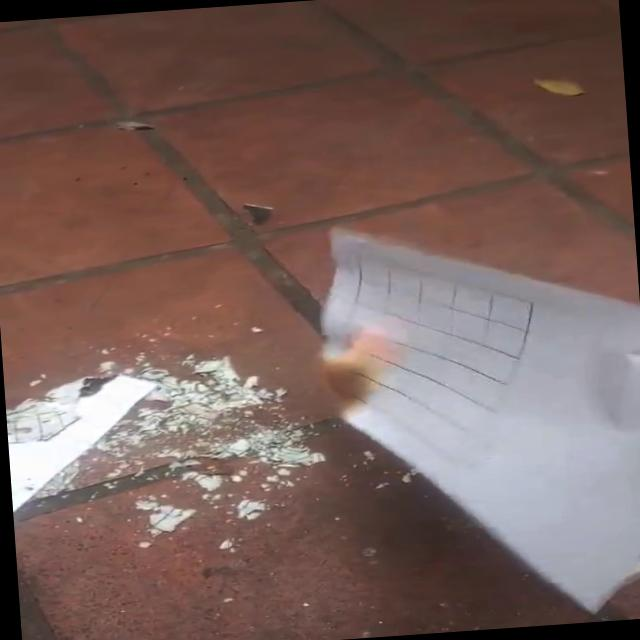Fire_Dangerous: (304, 318, 392, 424)
